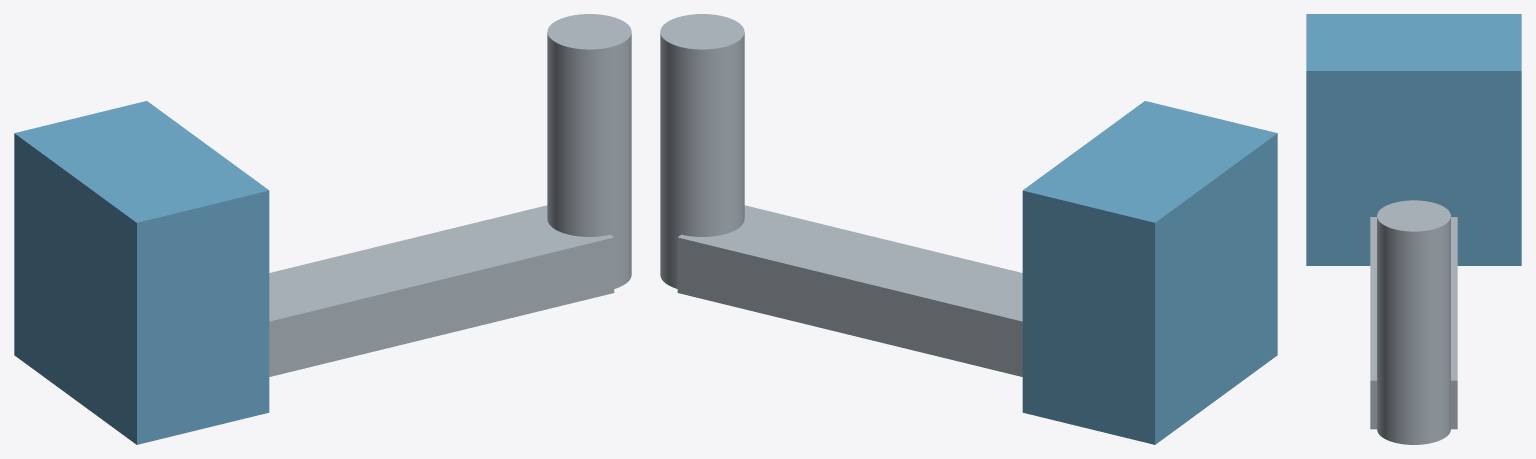
Rendered from carriage.glb.
The picture shows the model from 3 angles, left to right: view 1: azimuth 30°, elevation 25°; view 2: azimuth 150°, elevation 25°; view 3: azimuth 270°, elevation 25°; orthographic projection. The views are drawn at different scales.
Parts seen in each view (by area): view 1: dummy_carriage_0, dummy_carriage_1, dummy_carriage_2; view 2: dummy_carriage_0, dummy_carriage_1, dummy_carriage_2; view 3: dummy_carriage_0, dummy_carriage_2, dummy_carriage_1.
Boxes of the visible parts, x1,y1,x2,y2 form: dummy_carriage_0: [14, 101, 269, 444]; dummy_carriage_1: [269, 205, 614, 376]; dummy_carriage_2: [547, 14, 631, 288]; dummy_carriage_0: [1022, 101, 1277, 444]; dummy_carriage_1: [677, 205, 1022, 376]; dummy_carriage_2: [660, 14, 744, 288]; dummy_carriage_0: [1306, 14, 1521, 265]; dummy_carriage_2: [1377, 200, 1450, 444]; dummy_carriage_1: [1370, 217, 1457, 429].
Size of the model in its own units: 0.166 by 0.07 by 0.064.
